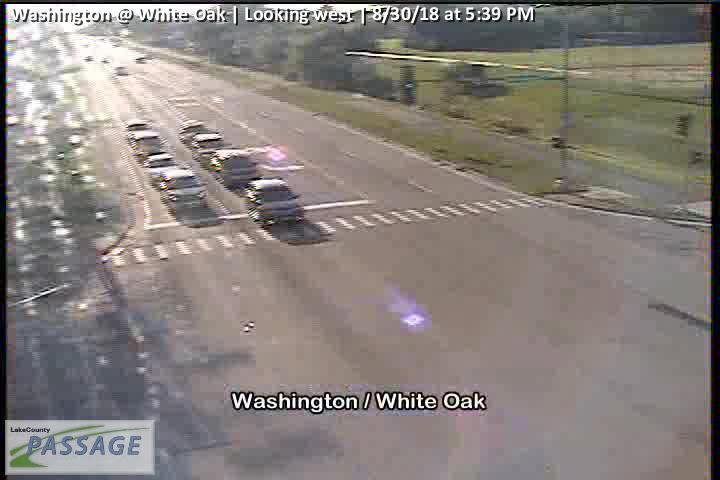SUV: (244, 175, 304, 228), (212, 147, 259, 186), (192, 132, 225, 169)
Sedan: (157, 167, 212, 216), (141, 154, 179, 185), (126, 130, 160, 154), (178, 120, 207, 145), (125, 120, 148, 129)
